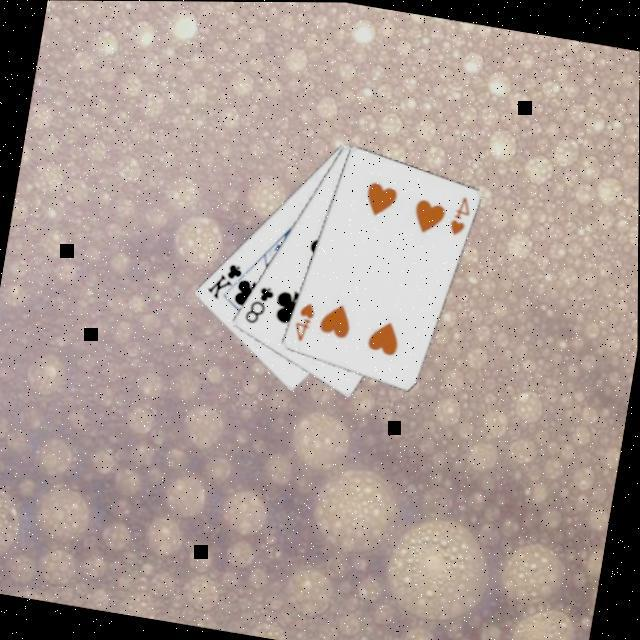4H: (446, 192, 476, 242), (290, 300, 319, 348)
8C: (240, 282, 278, 332)
KC: (203, 260, 255, 308)
